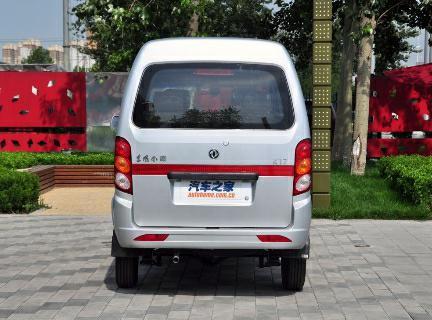东风小康-K17: (110, 32, 319, 282)
